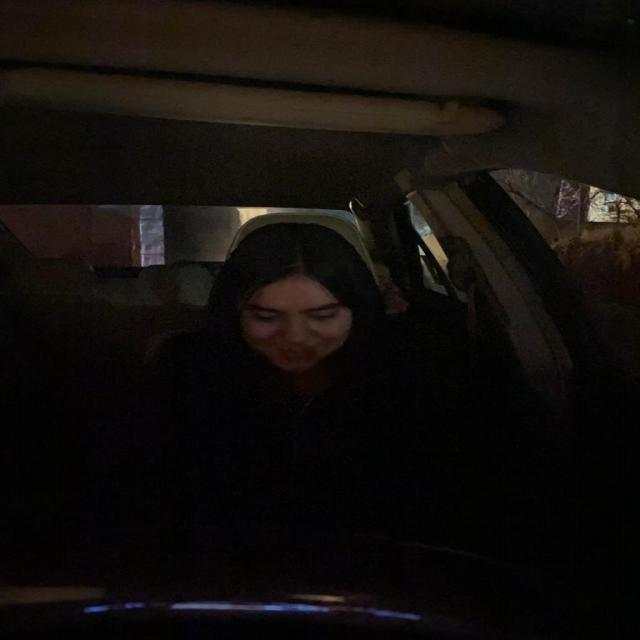drowsy: (209, 216, 377, 380)
